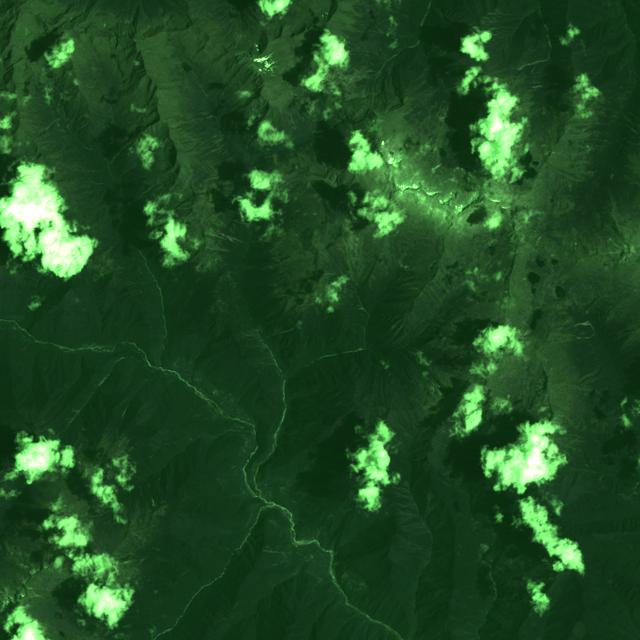landslides: (324, 248, 354, 289), (338, 237, 356, 282), (34, 117, 61, 138), (356, 225, 366, 279), (262, 327, 295, 341), (577, 367, 602, 384), (517, 58, 549, 71), (427, 284, 442, 304), (435, 275, 449, 294), (609, 237, 625, 253), (263, 546, 291, 555), (488, 10, 523, 17), (427, 289, 439, 308), (75, 121, 91, 134), (355, 265, 366, 283), (220, 233, 237, 244), (589, 374, 607, 384), (320, 251, 332, 264), (577, 332, 596, 340), (272, 557, 288, 566), (379, 48, 390, 61), (632, 481, 640, 495), (574, 321, 592, 327), (231, 219, 248, 225)
